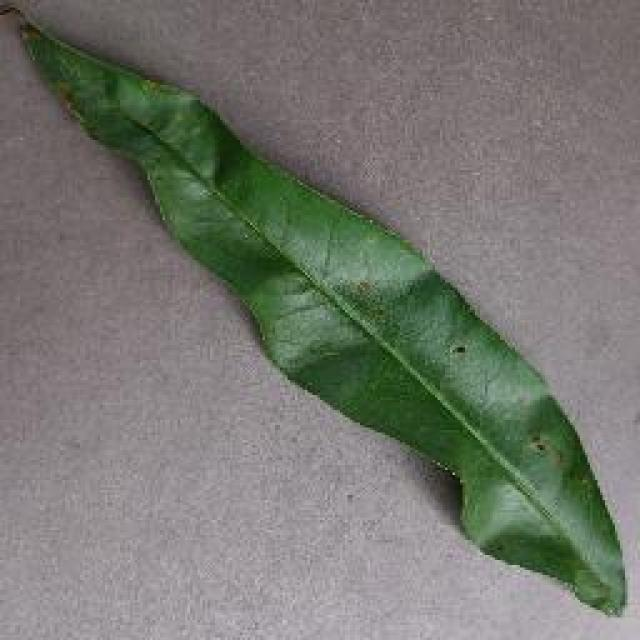Peach_Bacterial_Spot: (330, 264, 618, 524)
